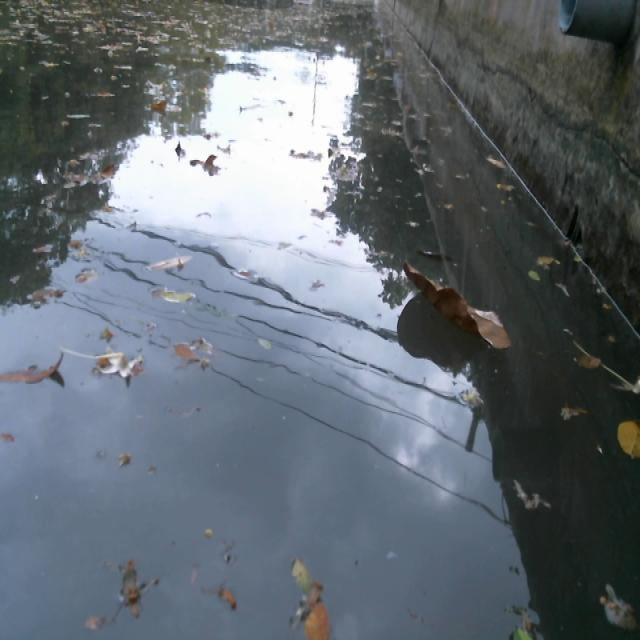Big-leaf: (398, 254, 514, 356)
Small-leaf: (88, 341, 148, 391), (2, 349, 65, 394), (114, 551, 150, 624), (596, 590, 640, 636), (304, 592, 335, 640), (612, 412, 640, 465), (146, 284, 198, 310), (143, 248, 192, 274), (287, 552, 315, 592), (25, 284, 68, 308), (168, 337, 201, 366), (188, 149, 223, 175), (455, 384, 487, 412), (572, 349, 605, 375), (556, 400, 595, 422), (532, 246, 563, 273), (216, 583, 242, 613), (89, 161, 118, 187), (144, 93, 175, 116), (82, 612, 110, 633), (490, 178, 520, 197), (484, 150, 508, 173), (0, 423, 20, 450), (76, 268, 101, 286), (30, 241, 59, 256), (255, 334, 276, 354), (172, 138, 188, 159), (524, 264, 542, 282)
